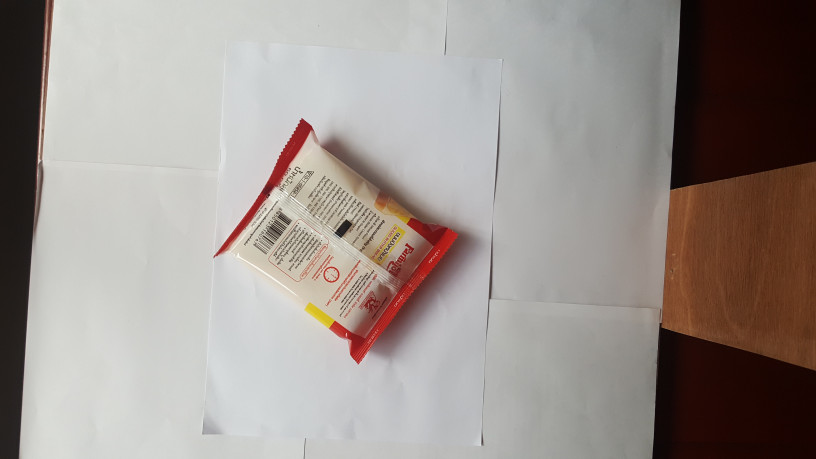farmhouse-bread-butter: (195, 110, 464, 366)
